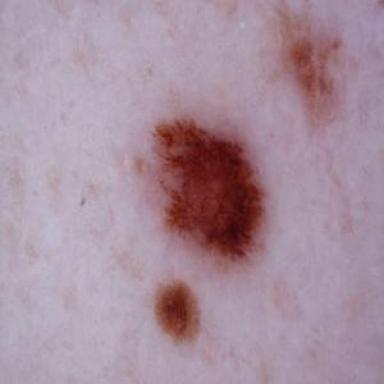Melanoma: (153, 118, 264, 259), (155, 281, 199, 343)
